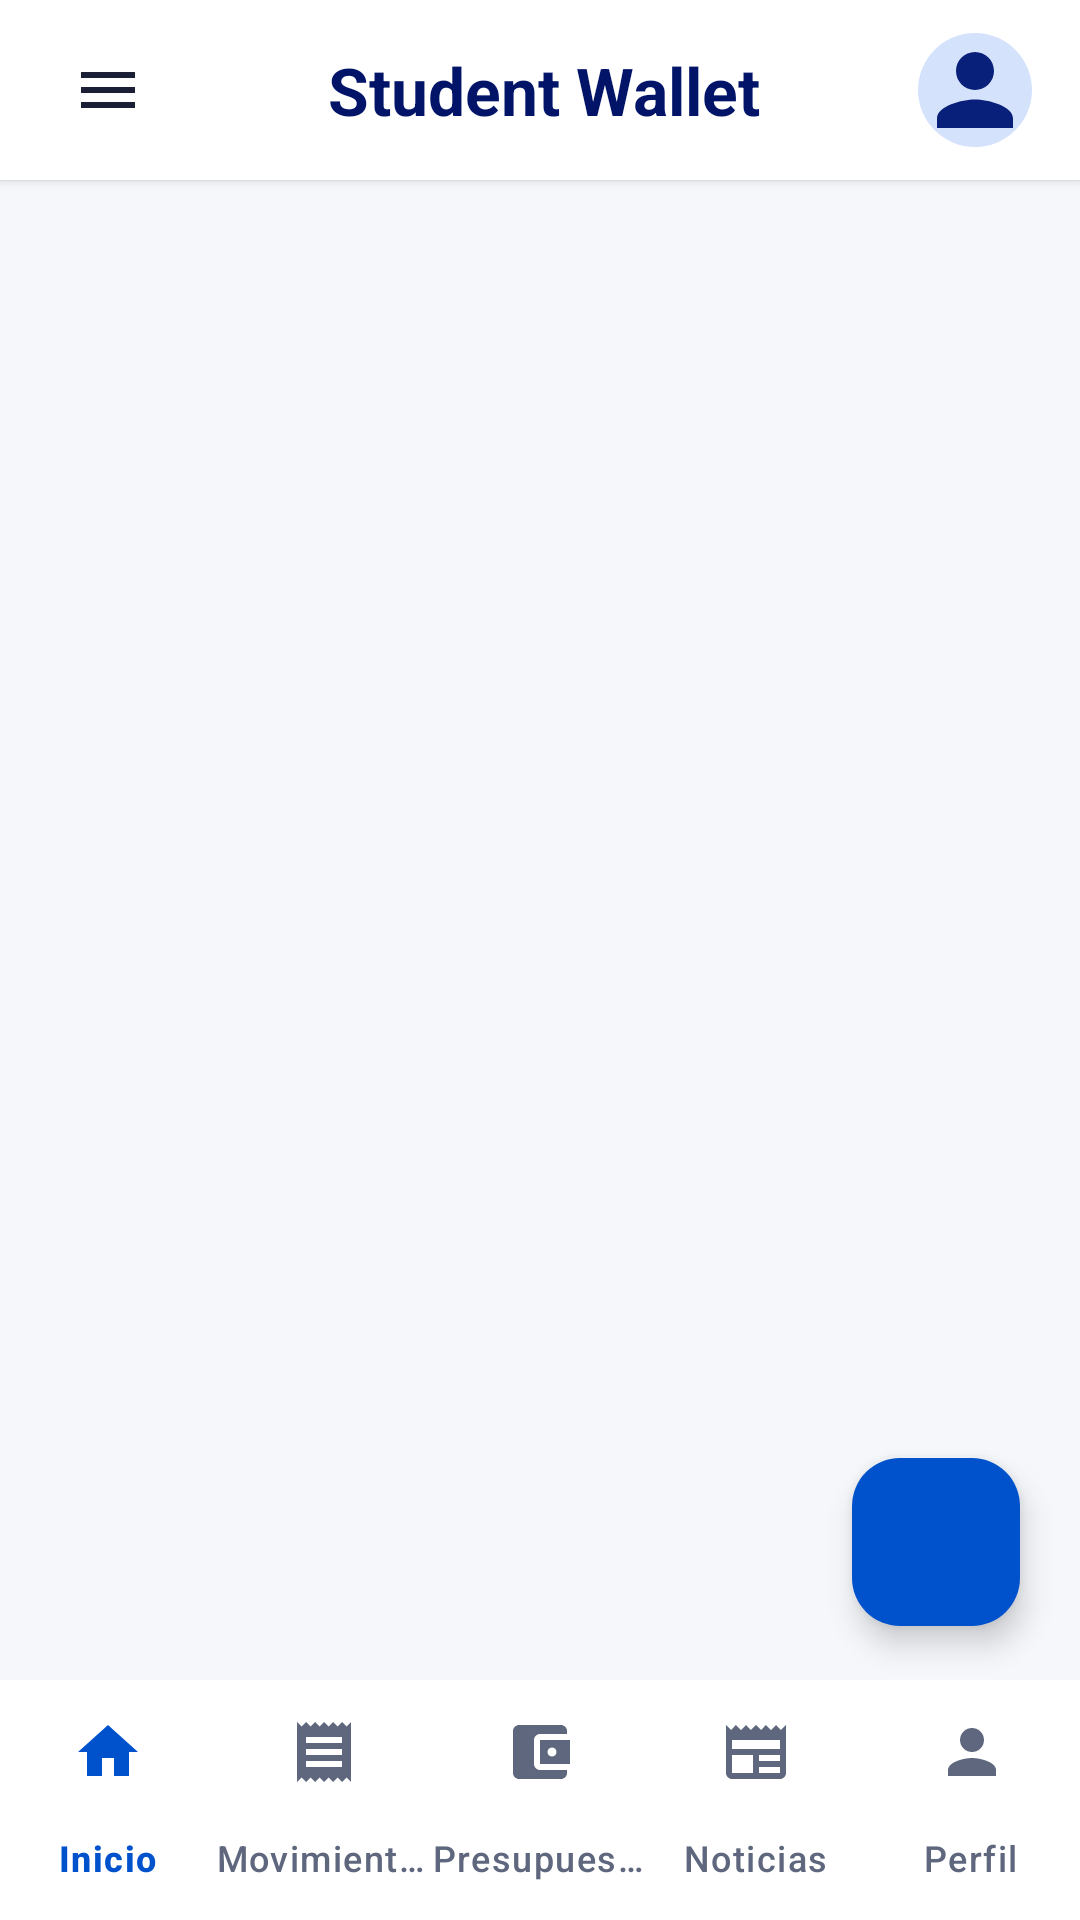

Named icons in this screenshot (1080x1920) and their centers, (x,y):
Menú: (108,90)
